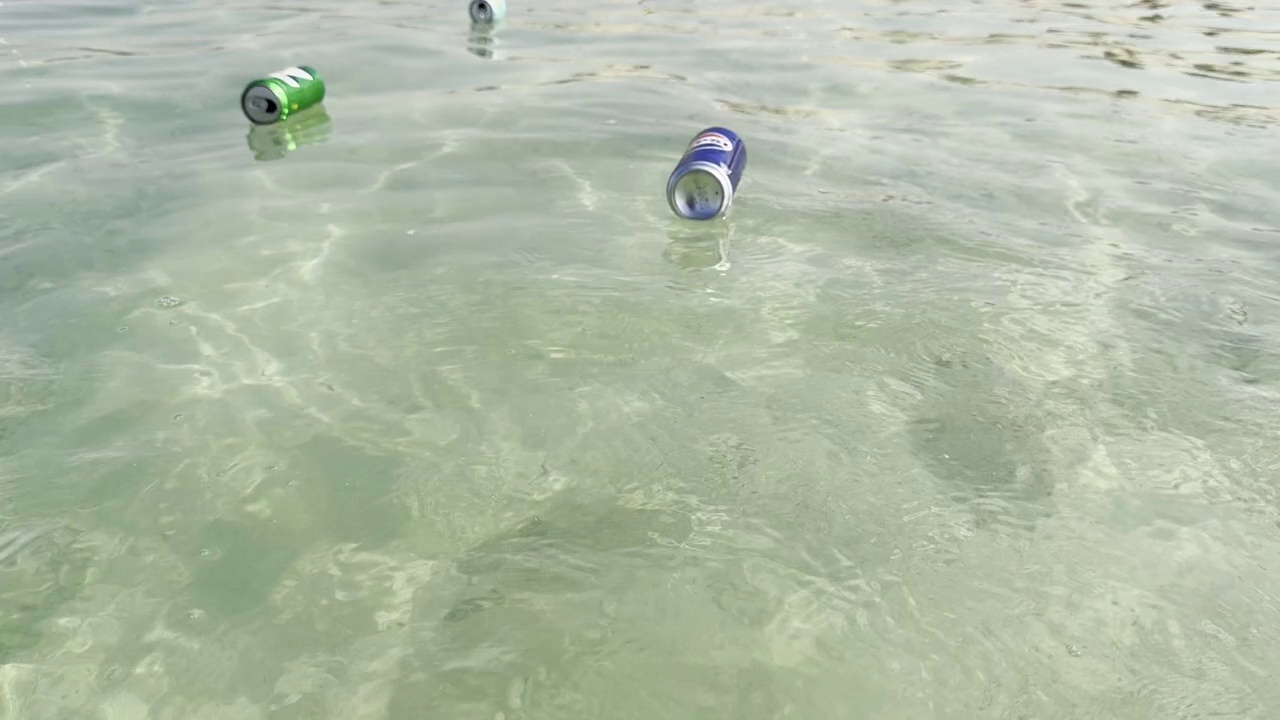debris: (653, 116, 756, 231), (238, 56, 334, 129), (461, 0, 517, 25)
